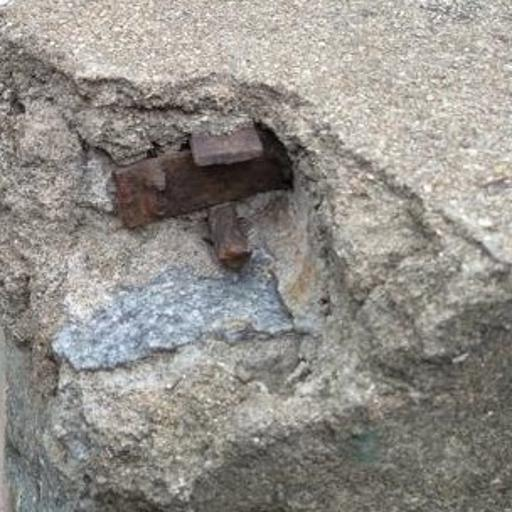spalling: (39, 39, 402, 440)
